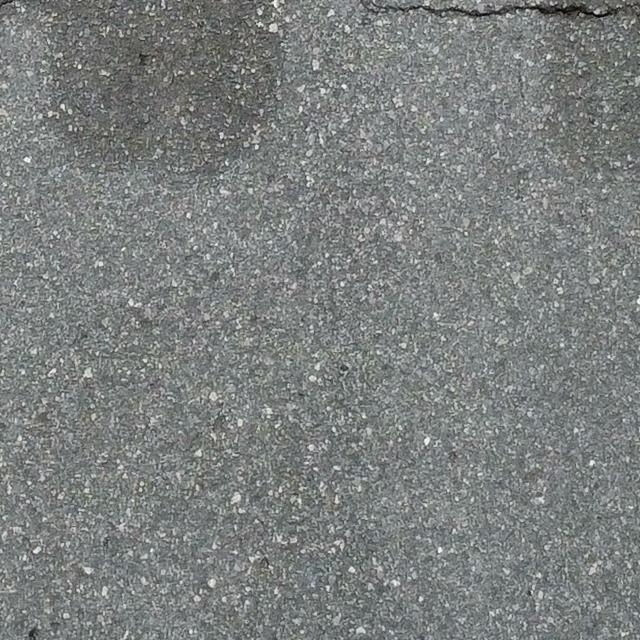TransverseCrack: (360, 1, 640, 19)
